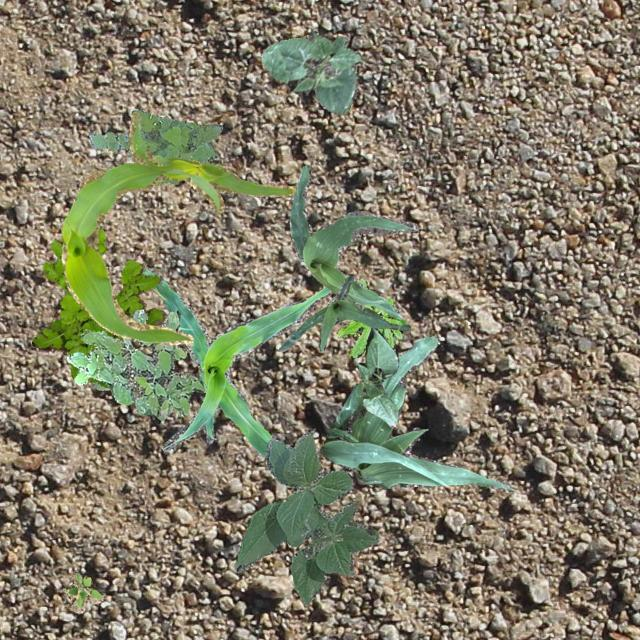crop: (61, 110, 294, 344), (140, 266, 332, 458), (320, 336, 514, 490), (234, 428, 378, 604), (288, 165, 416, 318), (278, 274, 410, 350), (260, 29, 360, 112), (356, 326, 398, 426), (90, 380, 108, 390)
weed: (30, 228, 164, 386), (66, 308, 206, 419), (88, 108, 222, 184), (335, 278, 405, 358), (64, 572, 102, 612)
